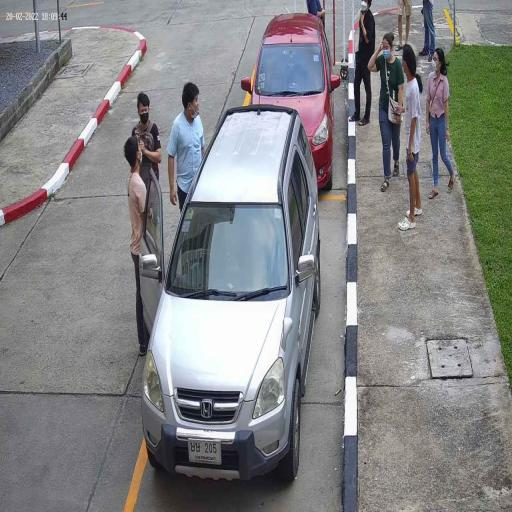car: (141, 106, 321, 487), (248, 9, 336, 192)
